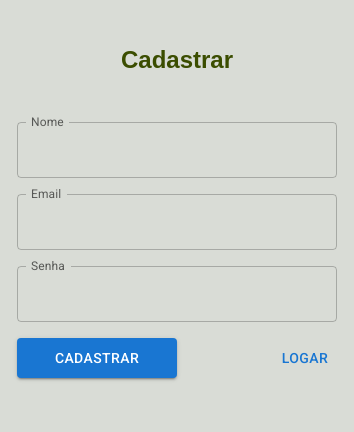
Scenario: Register › should render require email valid
Type "admin@" into the field labelled "Email" at (177, 222), box [17,194,337,250]
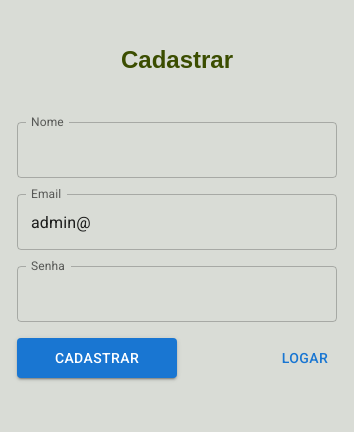
Click the button "Cadastrar" at (97, 358), box [17,338,177,378]
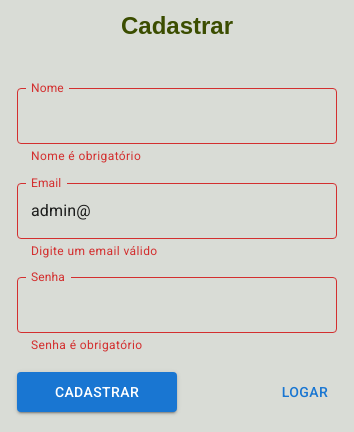
expect the text "Digite um email válido" is shown: met, box [31,244,158,258]
expect the text "Nome é obrigatório" is shown: met, box [31,149,141,163]
expect the text "Senha é obrigatório" is shown: met, box [31,338,142,352]
